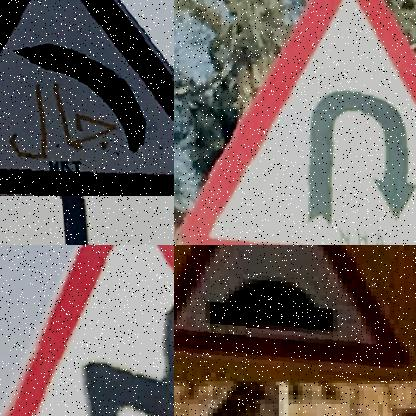Speed Breaker Ahead: (174, 245, 416, 380)
U-Turn: (174, 0, 416, 245)
Zigzag Road Ahead: (7, 245, 174, 416)
